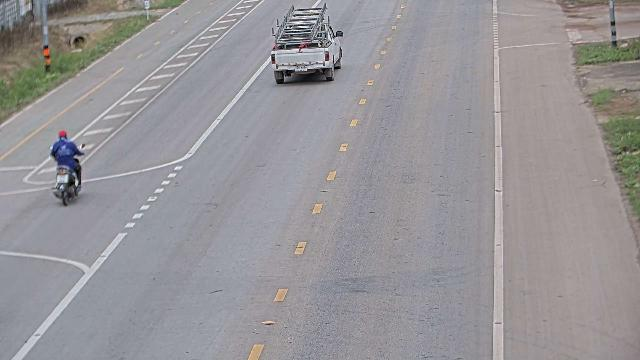motorcycle: (49, 141, 88, 195)
pickup-truck: (269, 1, 344, 84)
